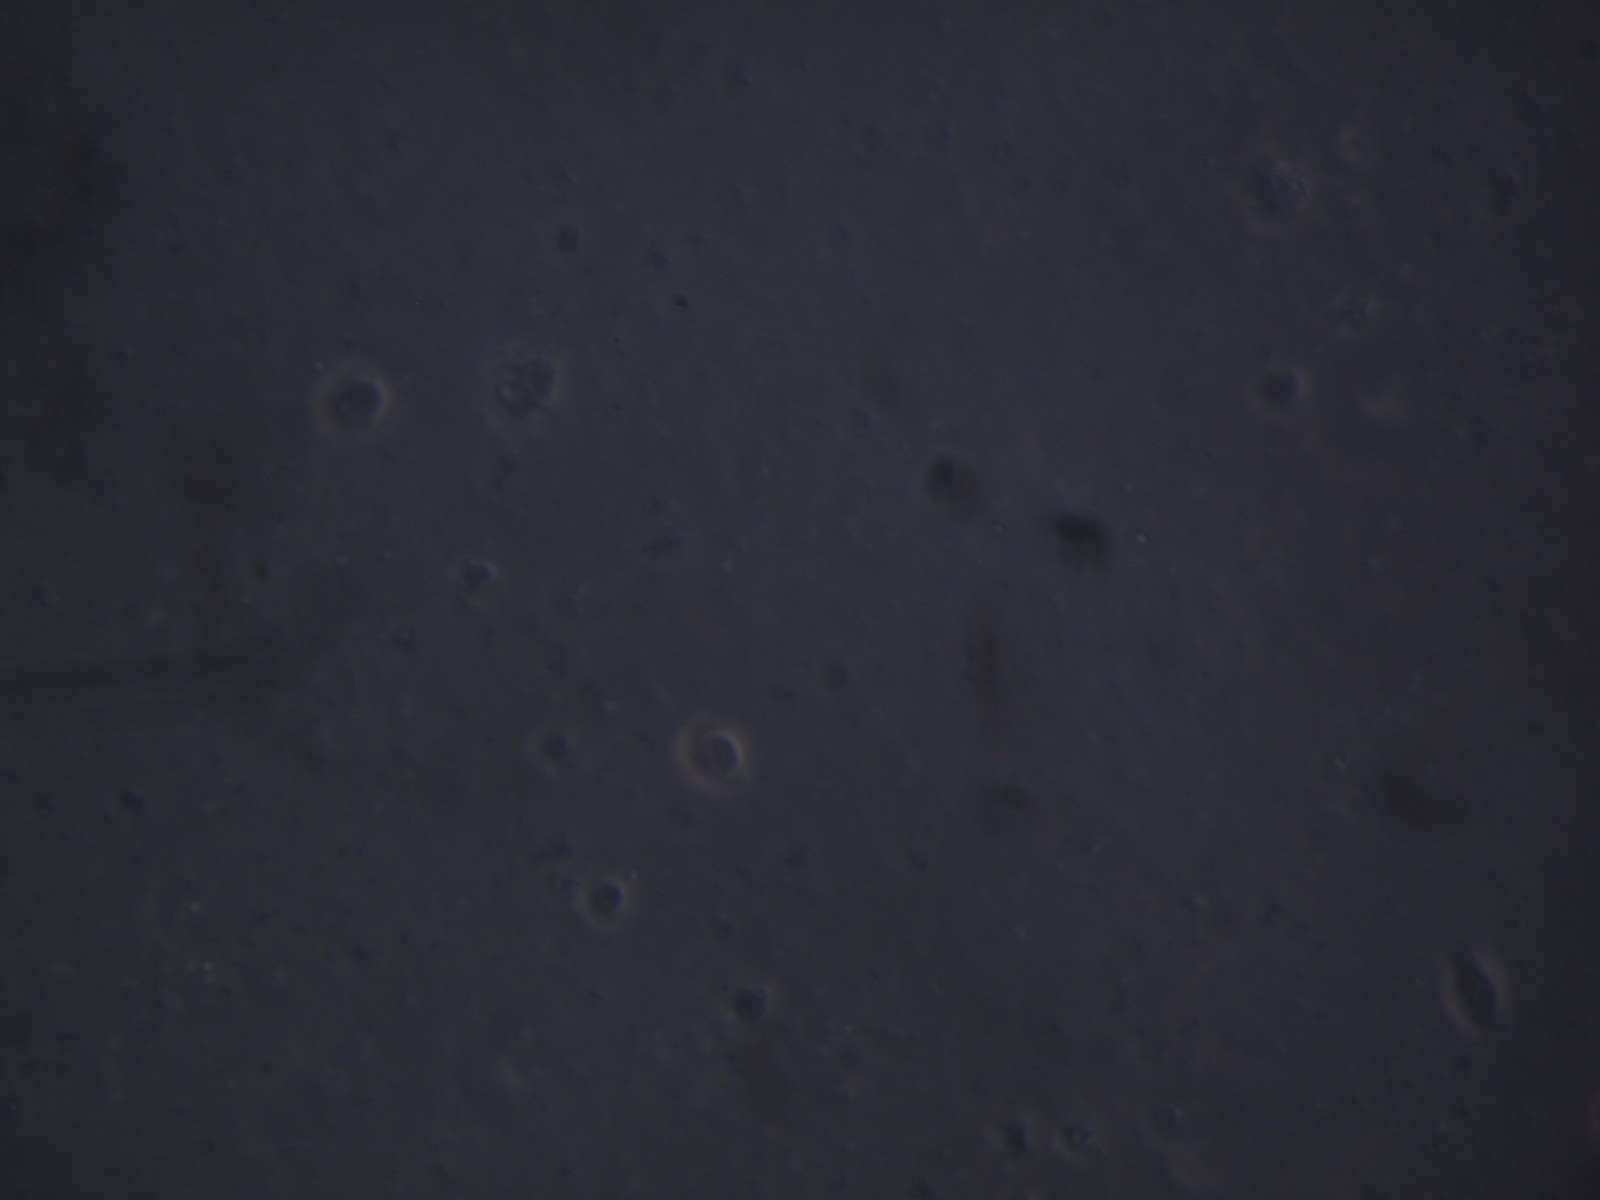hemo: (673, 702, 753, 794), (310, 361, 391, 445), (1437, 952, 1508, 1027), (1246, 361, 1309, 422), (578, 868, 636, 933)
